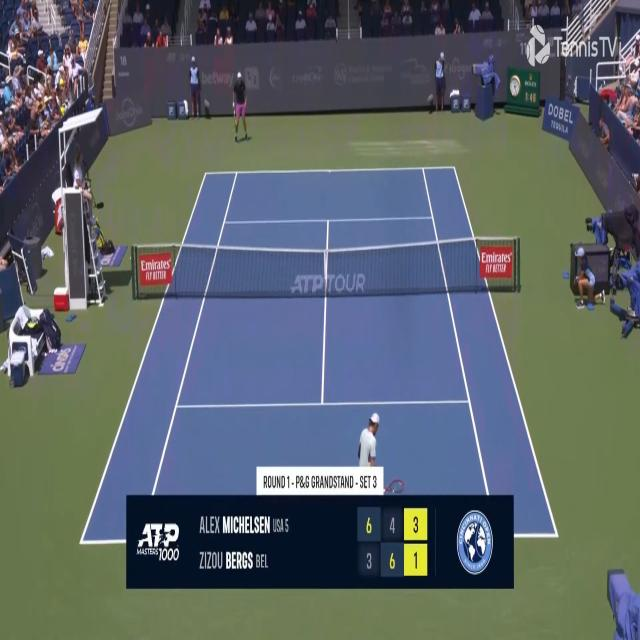tennis-player: (356, 409, 384, 492), (230, 70, 250, 142)
